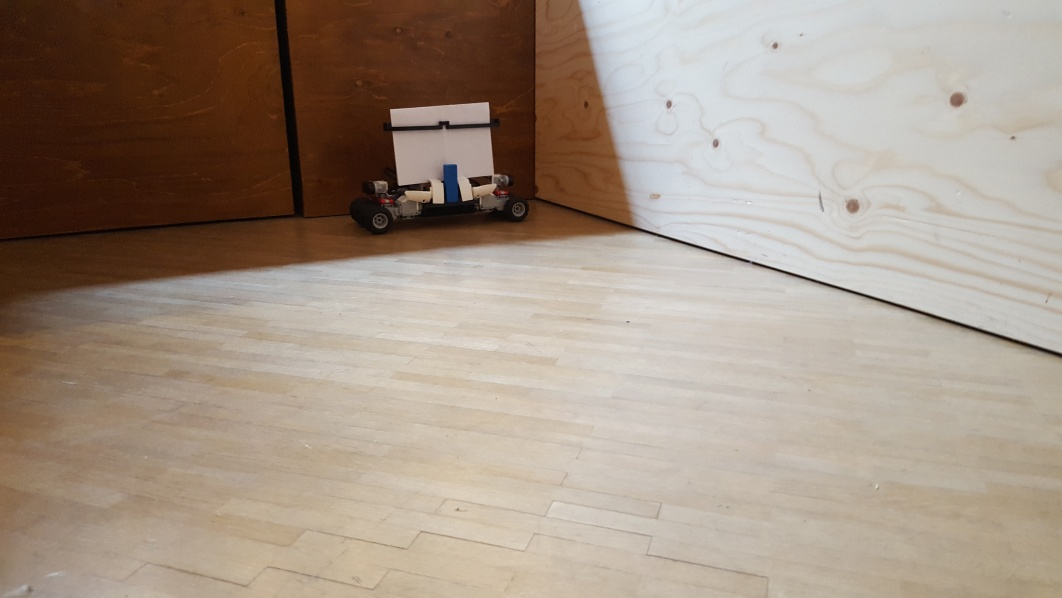beam: (442, 162, 460, 205)
